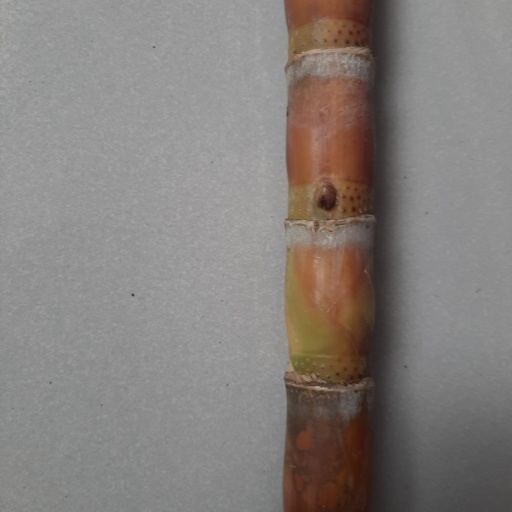Bud: (312, 183, 338, 212)
